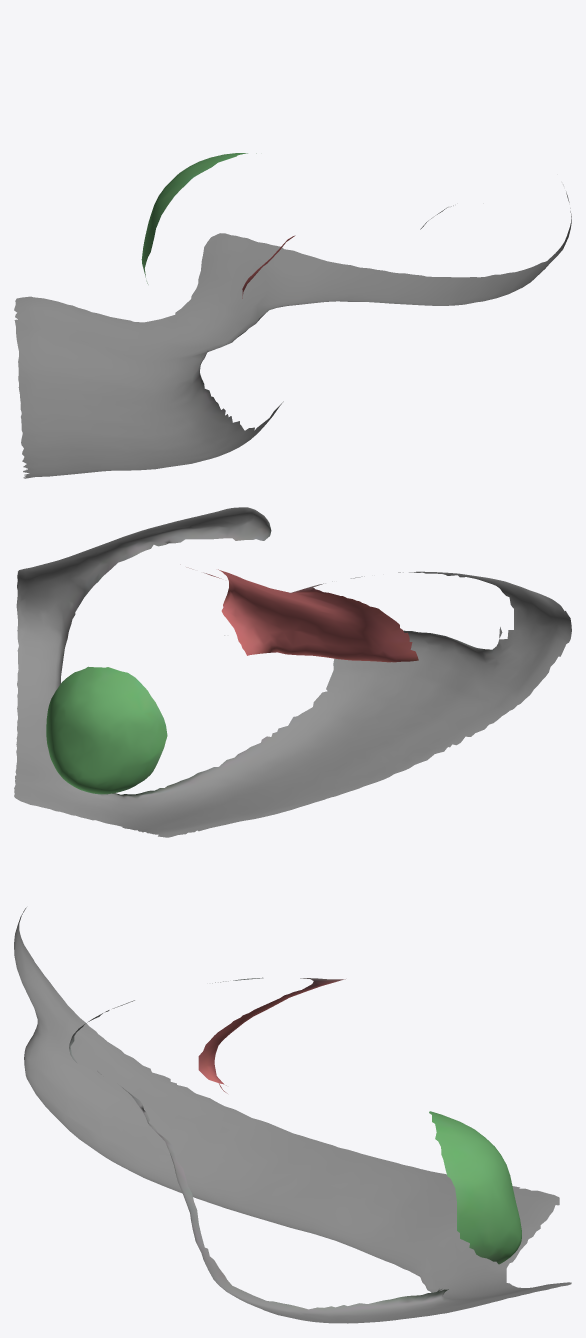
File: final_mesh_poisson.glb
3 renders of one model, top to bottom at view 1: azimuth 30°, elevation 25°; view 2: azimuth 150°, elevation 25°; view 3: azimuth 270°, elevation 25°, orthographic. The views are drawn at different scales.
Bounding box in the file's own units: 1.95 × 0.9042 × 1.5.
